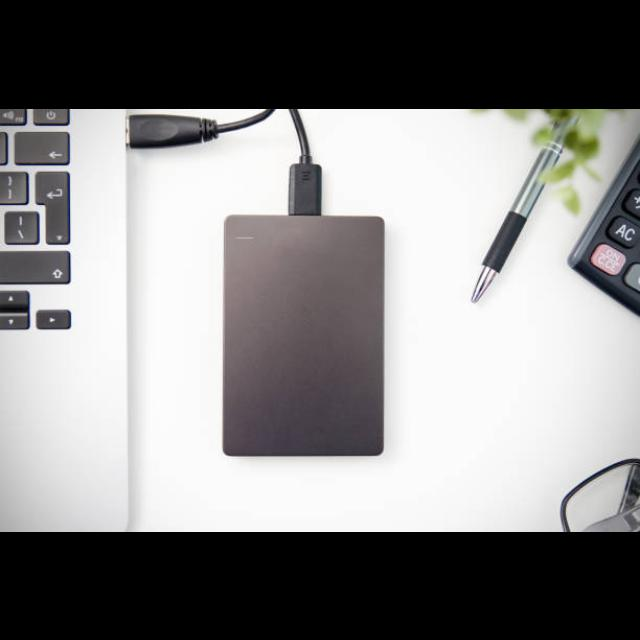HDD: (222, 214, 388, 458)
